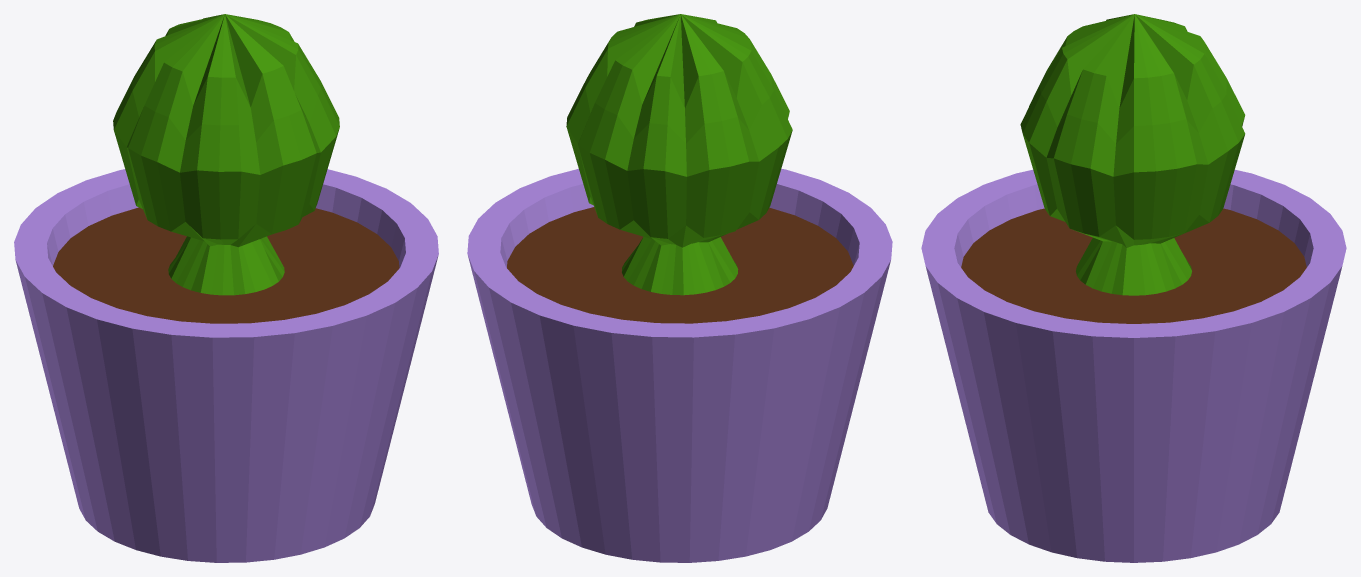
The model's file is cicek2.fbx.
3 views of the same model, side by side, from view 1: azimuth 30°, elevation 25°; view 2: azimuth 150°, elevation 25°; view 3: azimuth 270°, elevation 25° (orthographic).
Parts seen in each view (by area): view 1: Circle.005; view 2: Circle.005; view 3: Circle.005.
Boxes of the visible parts, box(x1,y1,x2,y2) form: Circle.005: box(14, 14, 438, 562); Circle.005: box(467, 14, 892, 562); Circle.005: box(921, 14, 1346, 562).
Bounding box in the file's own units: 27.79 × 35.03 × 27.79.
